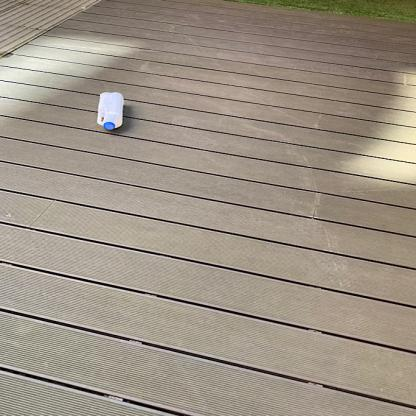trash: (96, 90, 127, 132)
